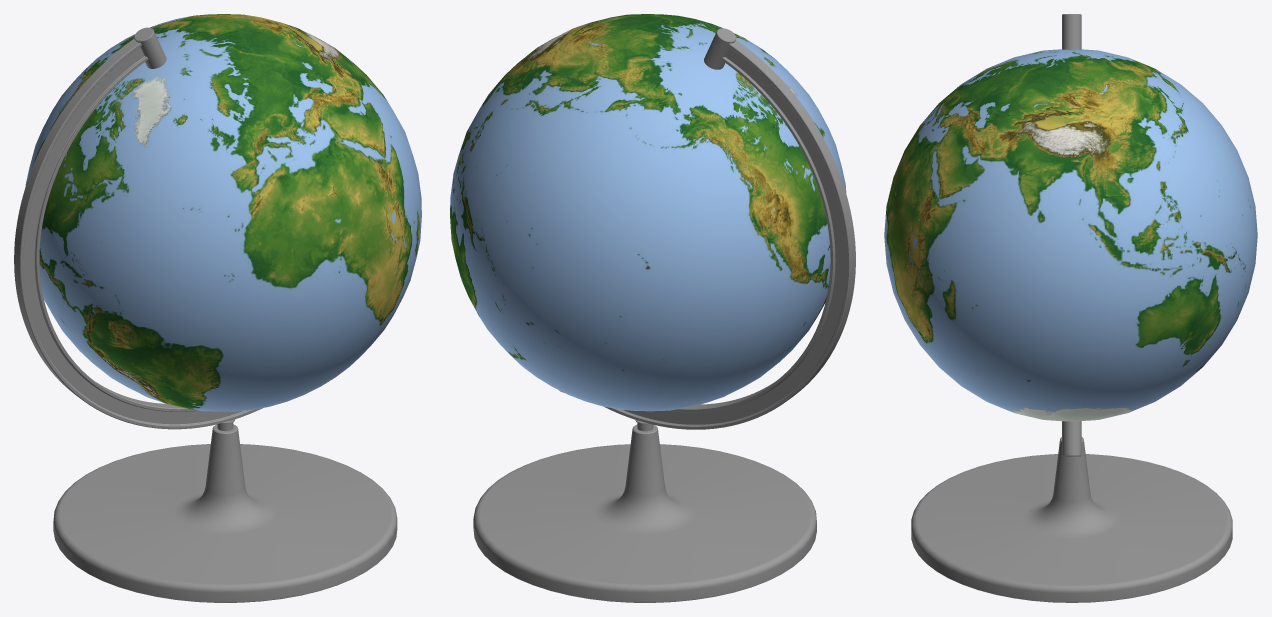
File: diqiu.FBX
The picture shows the model from 3 angles, left to right: view 1: azimuth 30°, elevation 25°; view 2: azimuth 150°, elevation 25°; view 3: azimuth 270°, elevation 25°; orthographic projection. The views are drawn at different scales.
Visible parts, largest first — view 1: Sphere001, Circle01; view 2: Sphere001, Circle01; view 3: Sphere001, Circle01.
Part boxes in pixels (bbox=[...]): Sphere001: bbox=[25, 14, 421, 411]; Circle01: bbox=[14, 27, 397, 602]; Sphere001: bbox=[450, 14, 846, 411]; Circle01: bbox=[473, 28, 855, 602]; Sphere001: bbox=[884, 49, 1257, 421]; Circle01: bbox=[911, 14, 1232, 602].
Bounding box in the file's own units: 331 × 435 × 302.
2 materials, 1 textured.
